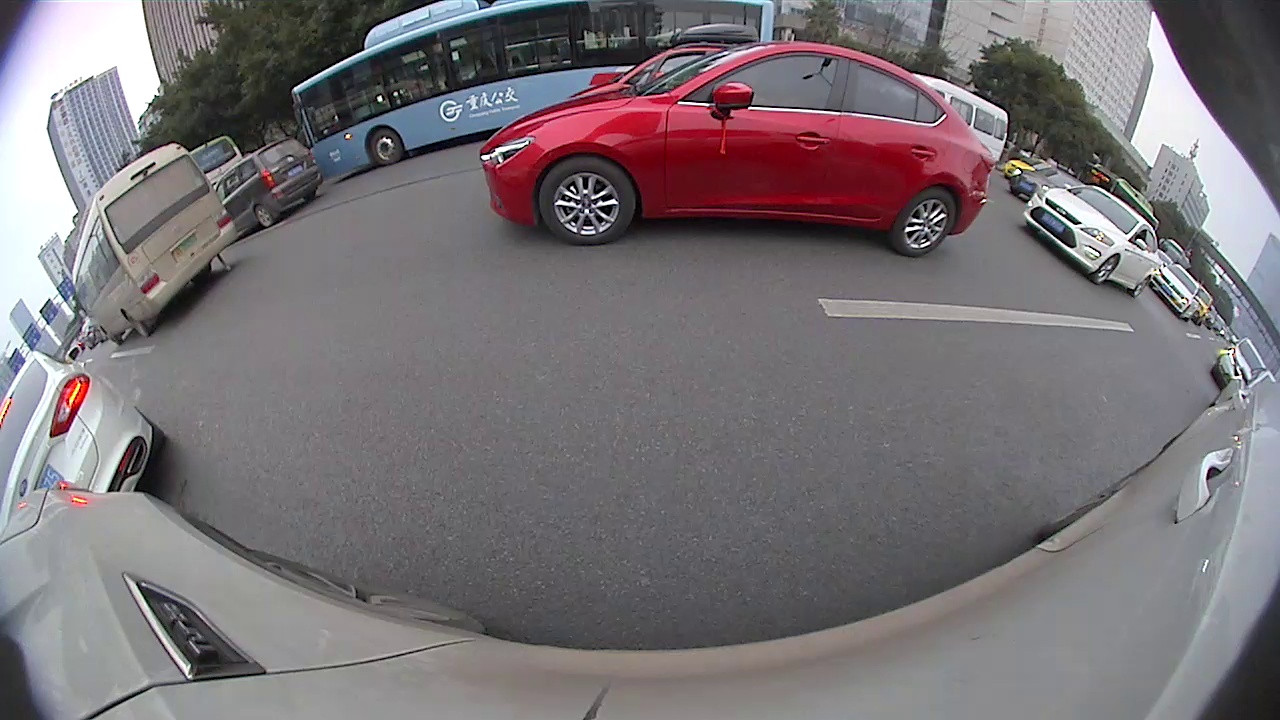bus: (296, 1, 776, 176), (71, 145, 231, 347)
car: (480, 44, 988, 255), (1, 353, 163, 545), (1026, 185, 1159, 298), (903, 74, 1007, 164), (220, 140, 325, 223)
front: (535, 155, 638, 246), (367, 128, 404, 167), (1095, 253, 1121, 285)
rear: (893, 187, 958, 258), (123, 309, 148, 336), (1129, 276, 1152, 300), (253, 205, 275, 226)
